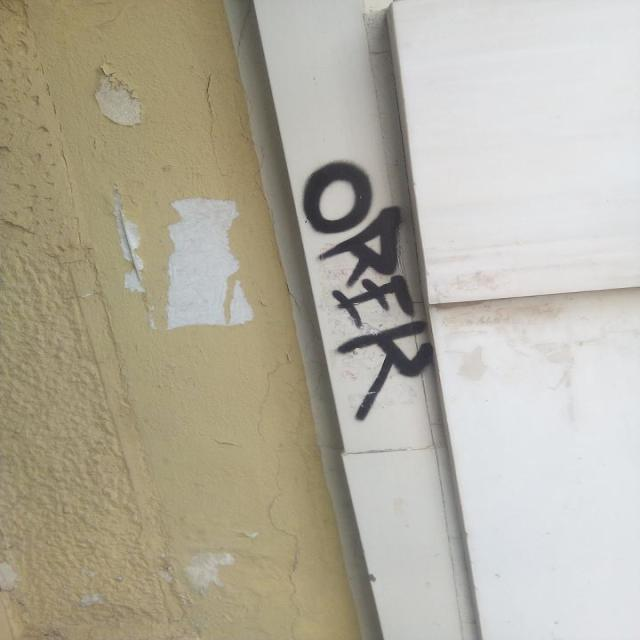nonspitting: (303, 160, 432, 420)
